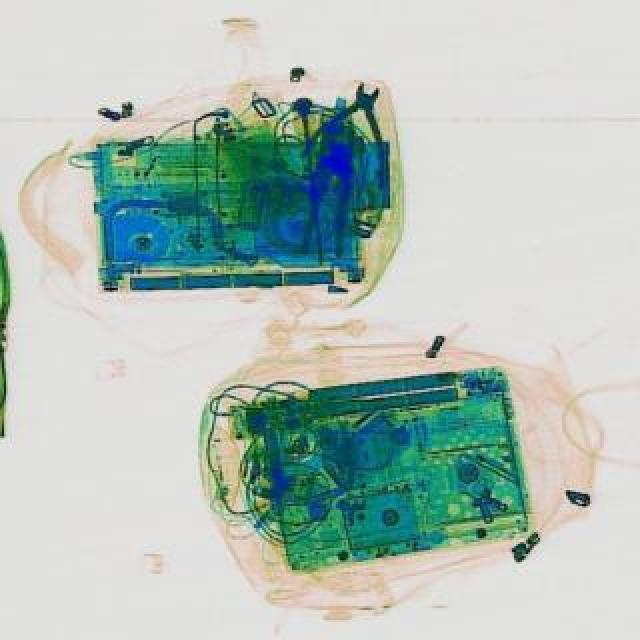wrench: (294, 70, 414, 190)
